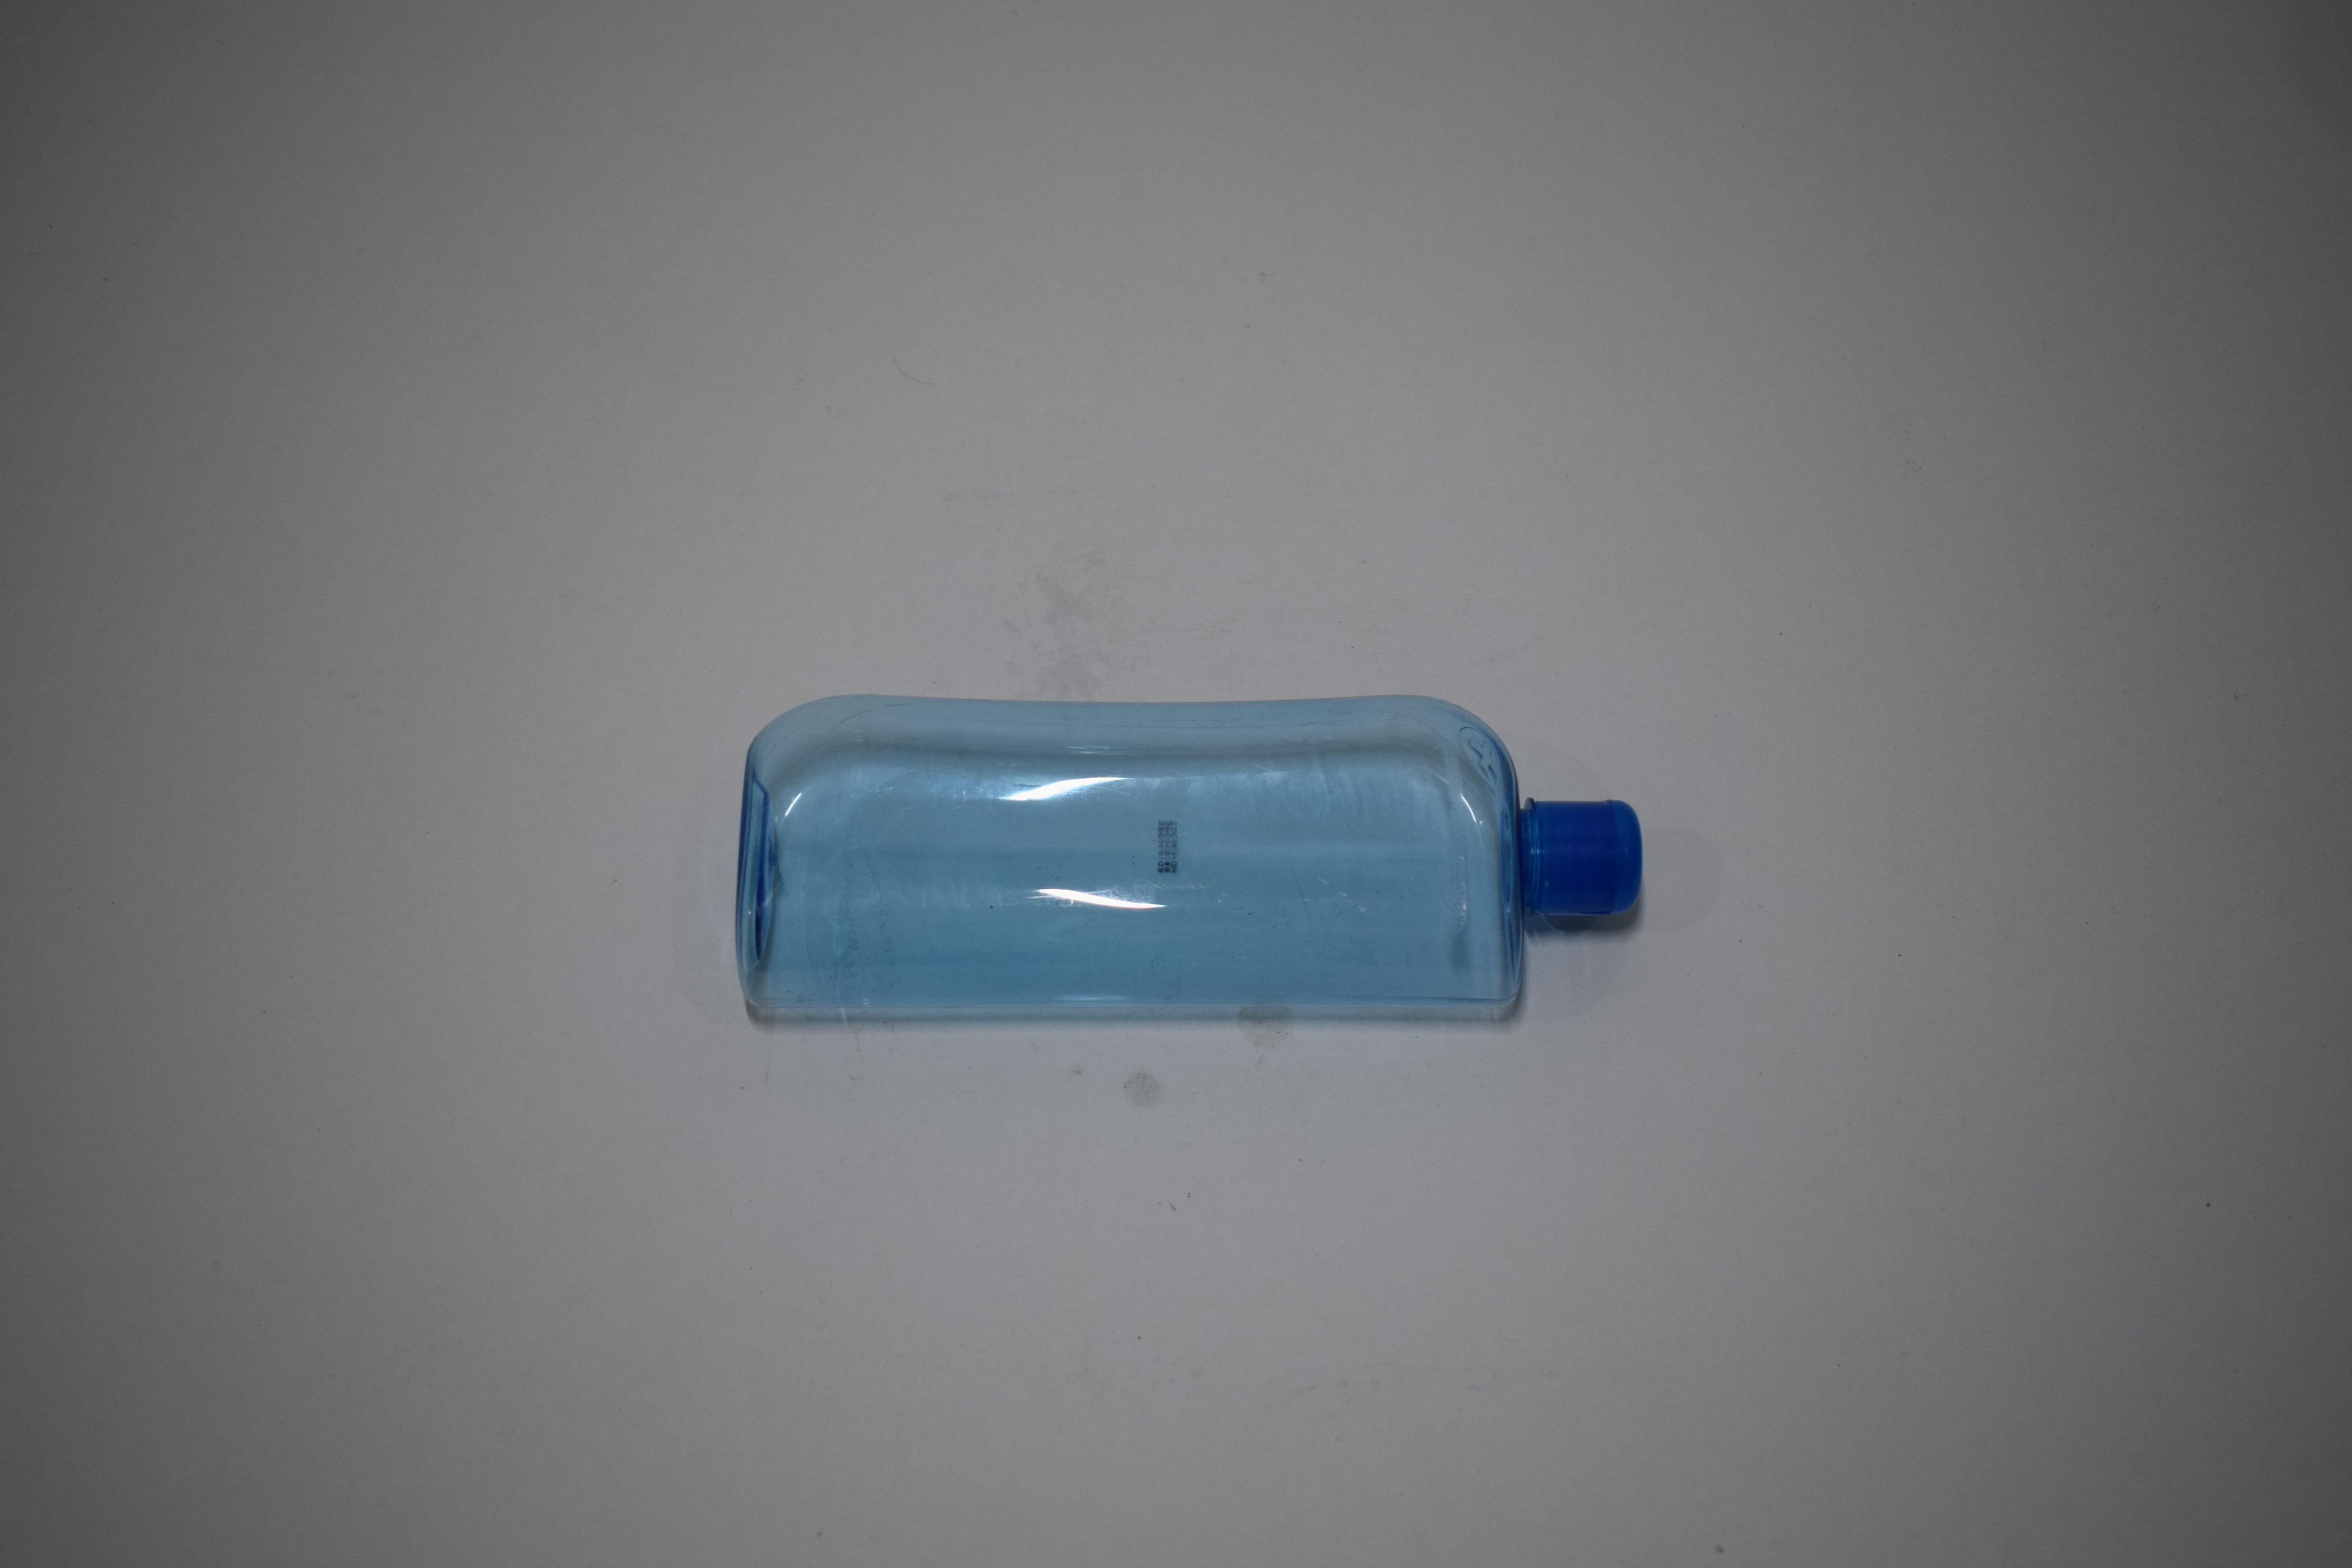bottle: (0, 0, 462, 247)
